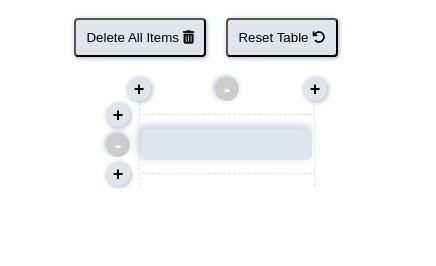
Test: ControlPanel › disables row and column remove buttons when there is one item
Expected: the button named "Remove row 1" is disabled, [106,132,130,156]
Expected: the button named "Remove column 1" is disabled, [215,77,239,101]
Click the button named "Add row after 1". click: (118, 174)
box: [106,162,130,186]
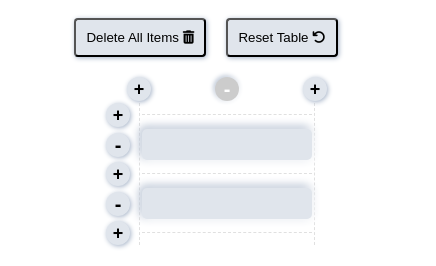
Now the button named "Remove row 1" is enabled, box [106,132,130,156]
Click the button named "Add column after 1". click: (315, 89)
box: [303,77,327,101]
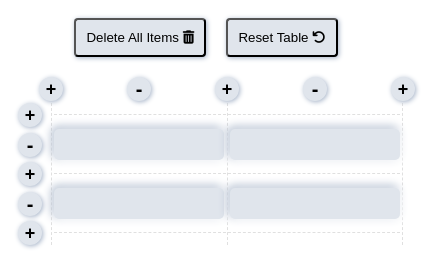
Now the button named "Remove column 1" is enabled, box [127,77,151,101]
